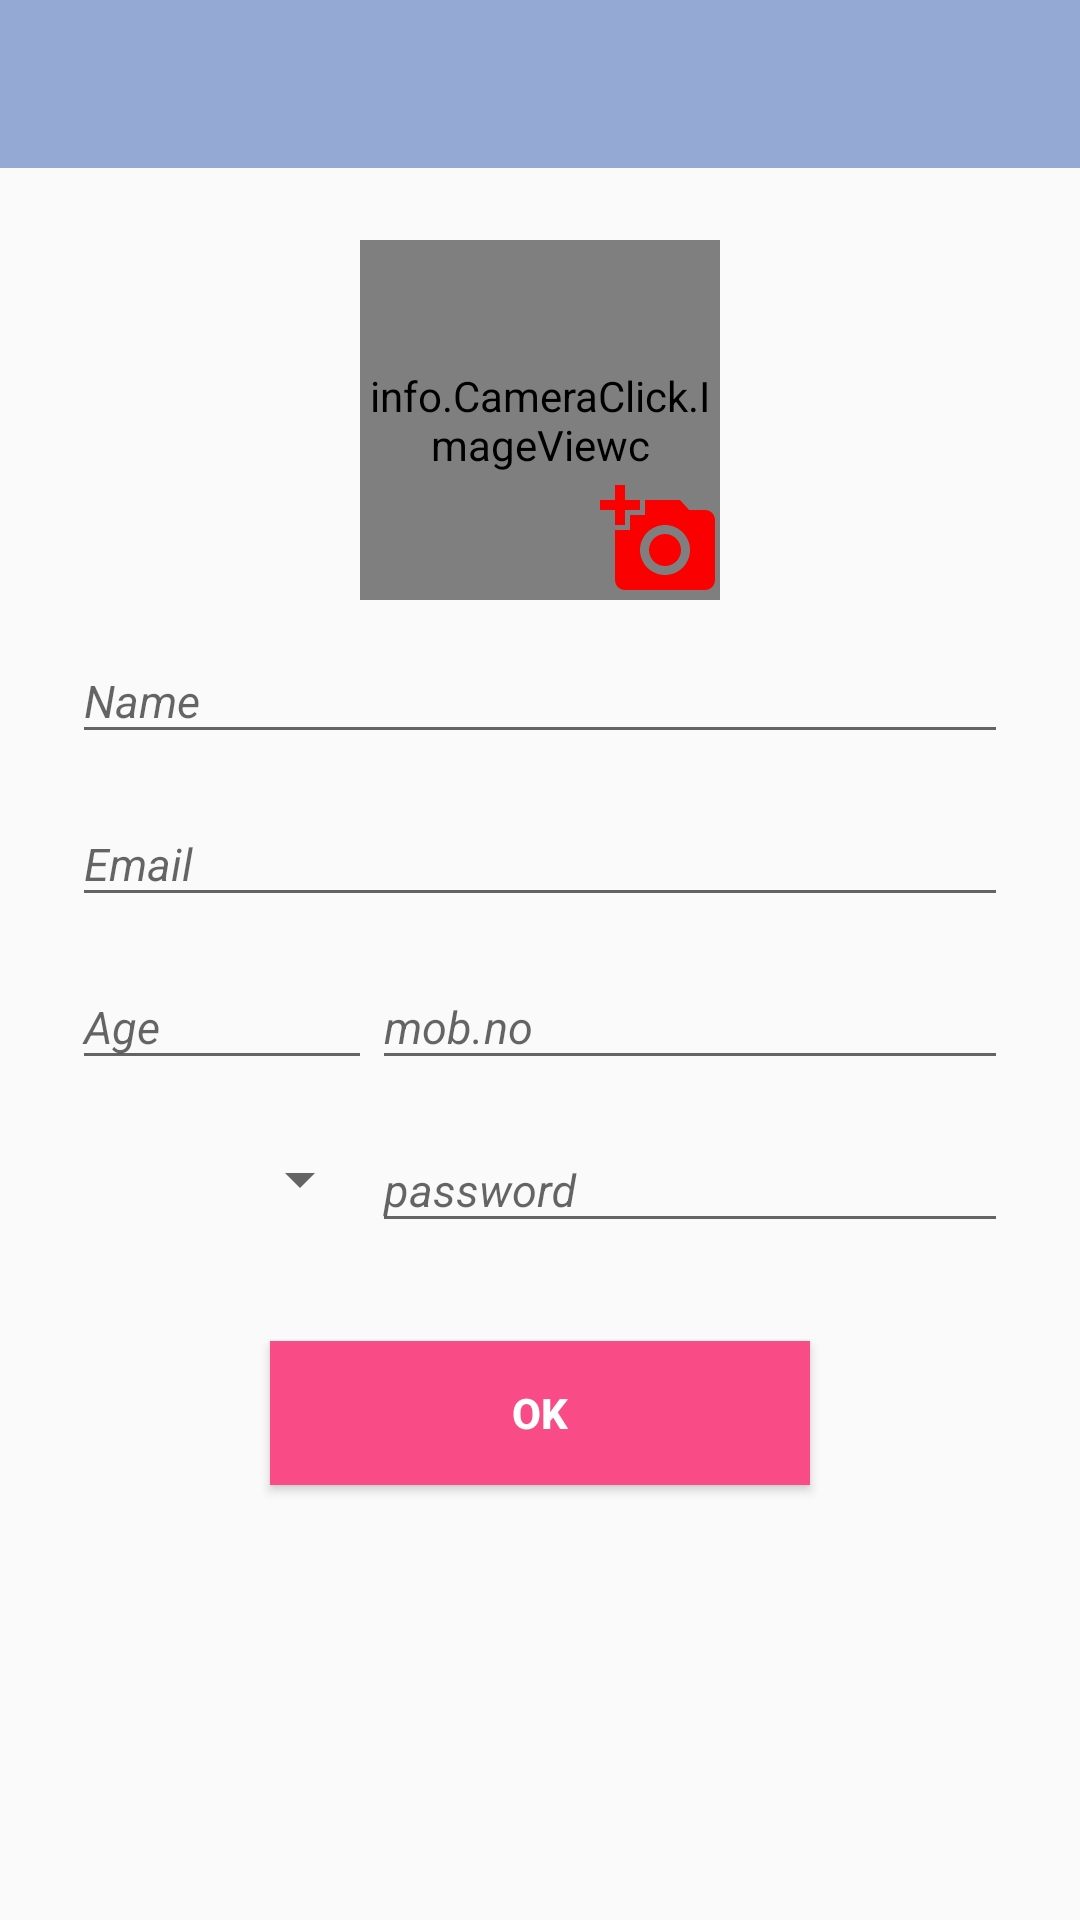

Named icons in this screenshot (1080×1920) and their bounding boxes, (x1, y1, x2, y2):
add photo: (600, 485, 715, 590)
